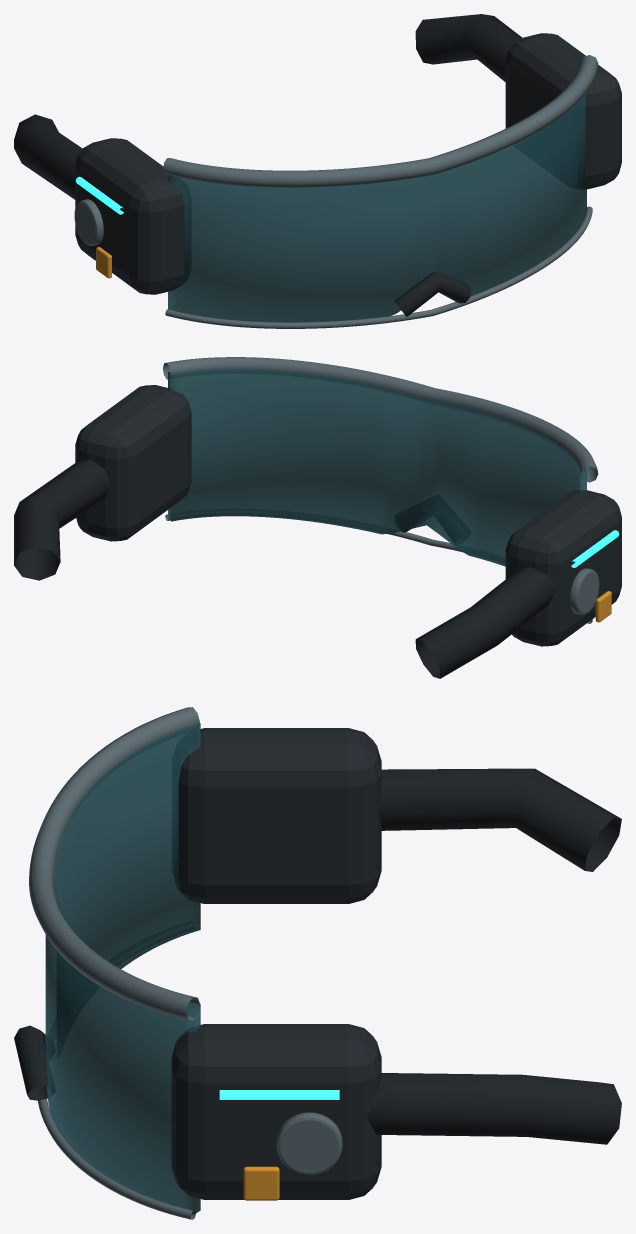
The model's file is tactical_visor.glb.
3 views of the same model, one above another, from view 1: azimuth 30°, elevation 25°; view 2: azimuth 150°, elevation 25°; view 3: azimuth 270°, elevation 25° (orthographic). The views are drawn at different scales.
Parts seen in each view (by area): view 1: ContinuousSmokedVisor, TempleHousing.001, VisorBrowRim, TempleArm.001, VisorLowerRim, NoseBridge, TempleHinge.001, TempleStatus.001; view 2: ContinuousSmokedVisor, TempleHousing.001, TempleArm.001, VisorBrowRim, TempleHinge.001, VisorLowerRim, NoseBridge, TempleStatus.001; view 3: TempleHousing.001, ContinuousSmokedVisor, TempleArm.001, VisorBrowRim, TempleHinge.001, VisorLowerRim, NoseBridge, TempleRelease.001, TempleStatus.001.
Boxes of the visible parts, x1,y1,x2,y2 form: ContinuousSmokedVisor: [168, 62, 586, 322]; TempleHousing.001: [75, 33, 621, 294]; VisorBrowRim: [163, 55, 598, 187]; TempleArm.001: [14, 14, 522, 199]; VisorLowerRim: [165, 206, 592, 328]; NoseBridge: [395, 271, 471, 316]; TempleHinge.001: [74, 199, 103, 245]; TempleStatus.001: [75, 176, 123, 214]; ContinuousSmokedVisor: [168, 369, 586, 566]; TempleHousing.001: [75, 385, 621, 646]; TempleArm.001: [14, 459, 556, 678]; VisorBrowRim: [163, 357, 598, 482]; TempleHinge.001: [570, 568, 599, 614]; VisorLowerRim: [165, 511, 592, 623]; NoseBridge: [395, 510, 463, 543]; TempleStatus.001: [571, 530, 619, 567]; TempleHousing.001: [171, 728, 381, 1199]; ContinuousSmokedVisor: [45, 723, 200, 1214]; TempleArm.001: [367, 768, 621, 1144]; VisorBrowRim: [29, 707, 199, 1020]; TempleHinge.001: [276, 1112, 342, 1175]; VisorLowerRim: [38, 923, 195, 1219]; NoseBridge: [14, 1025, 55, 1100]; TempleRelease.001: [243, 1166, 279, 1200]; TempleStatus.001: [219, 1090, 339, 1099].
Bounding box in the file's own units: 1.37 × 0.4416 × 1.01.
